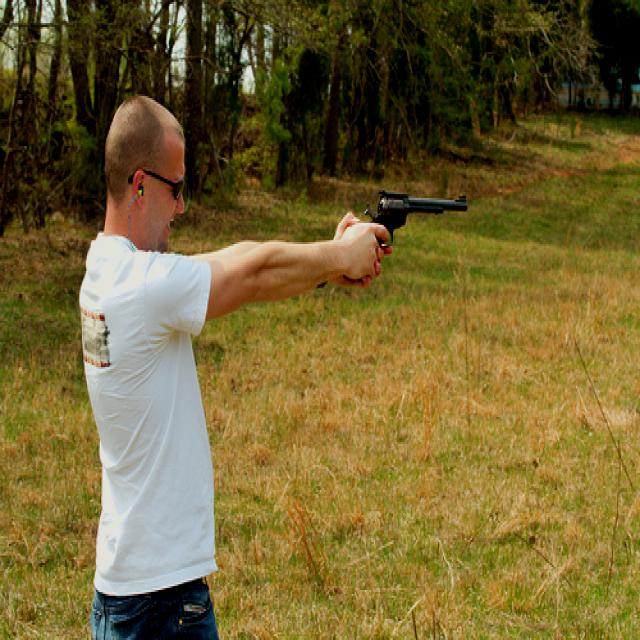handgun: (359, 186, 468, 250)
